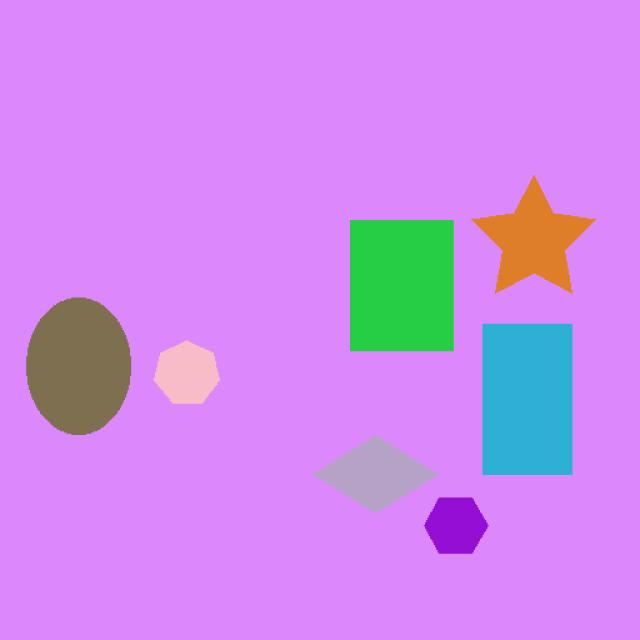Circle: (21, 293, 143, 445)
Heptagon: (152, 335, 230, 421)
Hexagon: (418, 483, 492, 567)
Kite: (309, 425, 442, 515)
Rectangle: (475, 315, 589, 489)
Star: (468, 167, 600, 306)
square: (343, 208, 474, 368)
